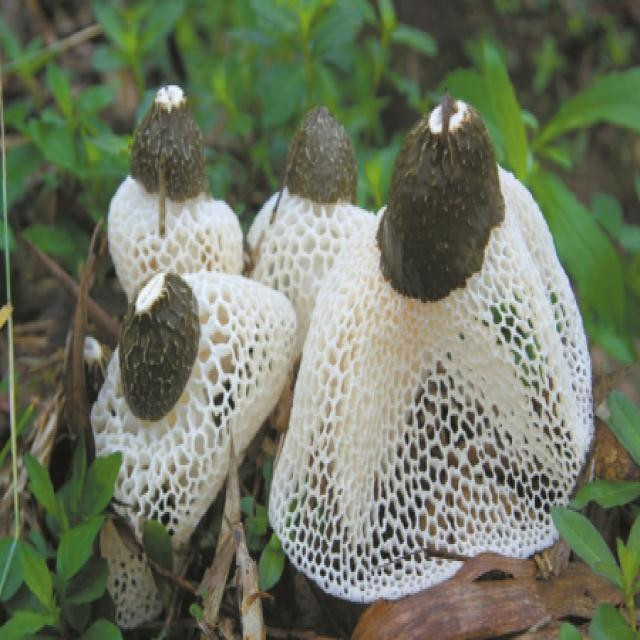Dictyophora indusiate: (268, 100, 595, 598), (92, 265, 296, 548), (246, 103, 375, 358), (107, 86, 242, 294)
